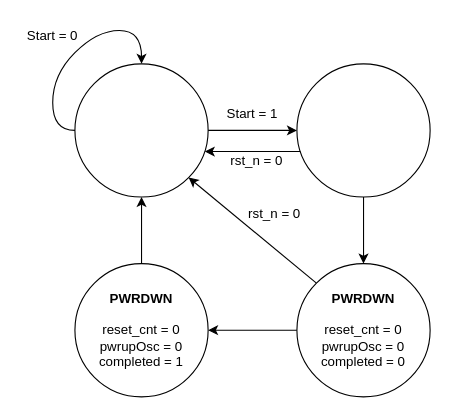
Image size: 450x416. Some labels were removed from this diagram. Here are the shapes that lost their labels. From the top down, the box of each, then its label:
(74, 63, 208, 197): IDLE reset_cnt = 1 pwrupOsc = 0 completed = 1
(296, 63, 430, 197): PWRUP reset_cnt = 0 pwrupOsc = 1 completed = 0
